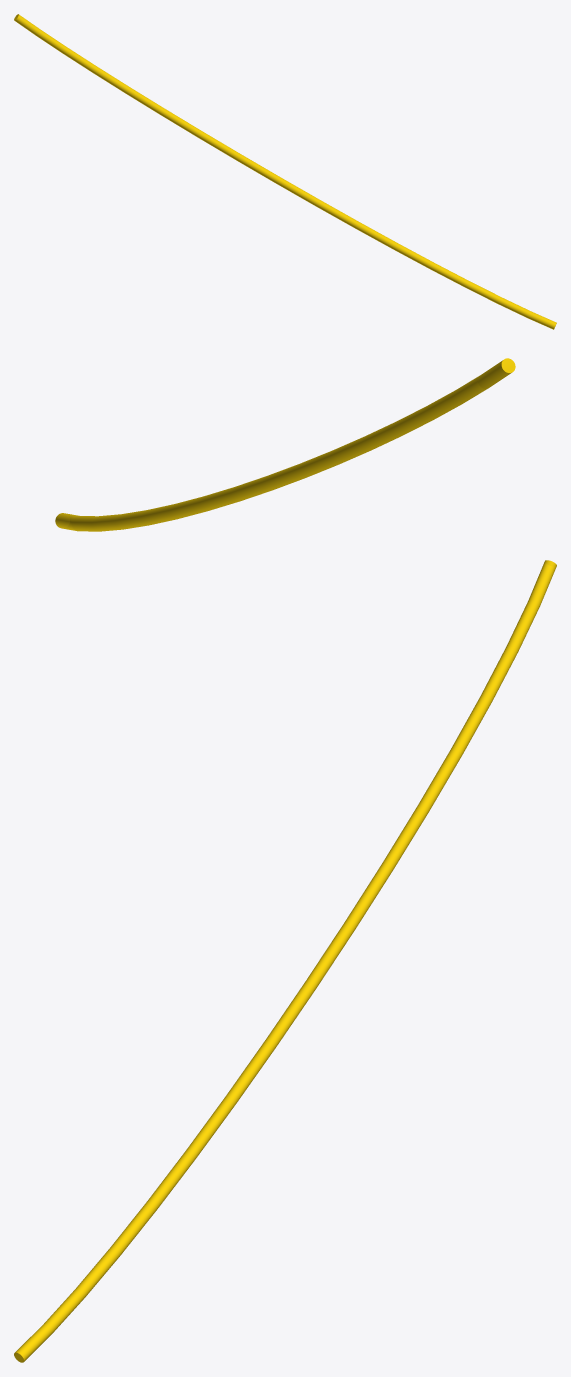
File: Event_421127236_track_5.fbx
3 views of the same model, one above another, from view 1: azimuth 30°, elevation 25°; view 2: azimuth 150°, elevation 25°; view 3: azimuth 270°, elevation 25° (orthographic). The views are drawn at different scales.
Parts seen in each view (by area): view 1: Model; view 2: Model; view 3: Model.
Part boxes in pixels (box(x1,y1,x2,y2)): Model: box(14, 14, 556, 329); Model: box(55, 358, 515, 531); Model: box(14, 560, 556, 1362).
Size of the model in its own units: 2.29 by 1.66 by 1.66.
